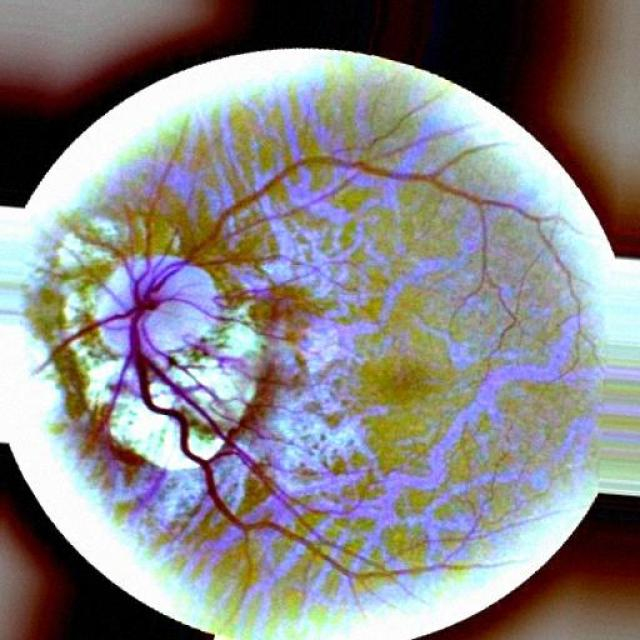Optic Disk: (91, 256, 266, 470)
